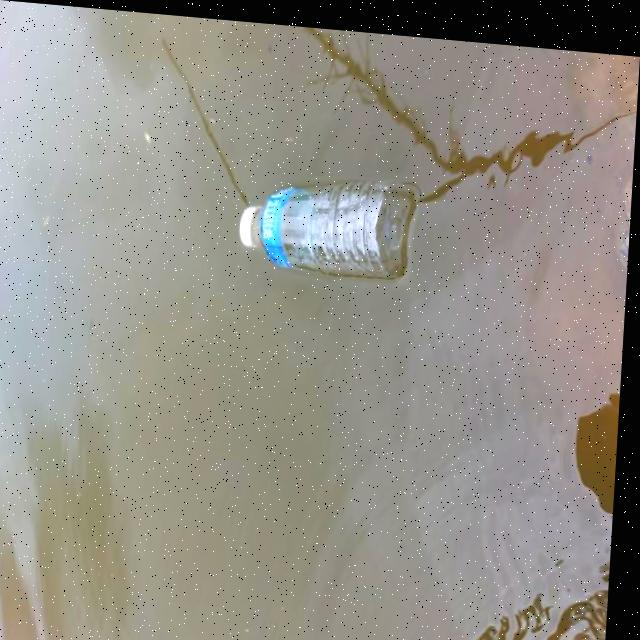waterbottle: (223, 166, 441, 308)
